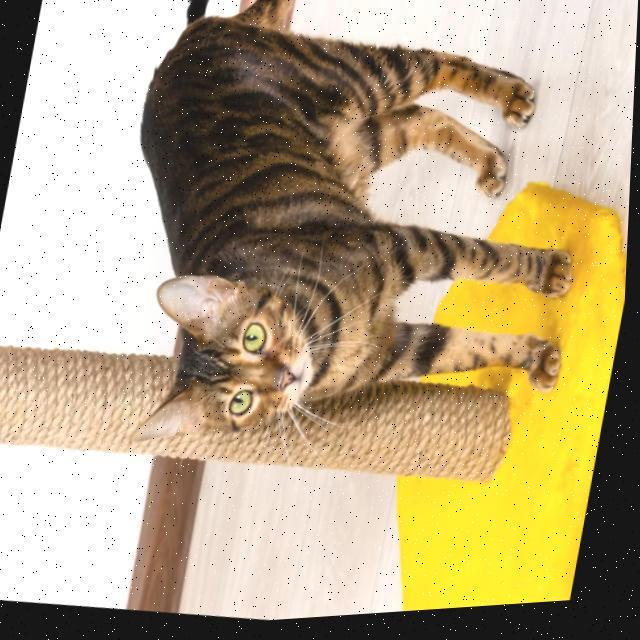Toyger: (80, 0, 634, 509)
